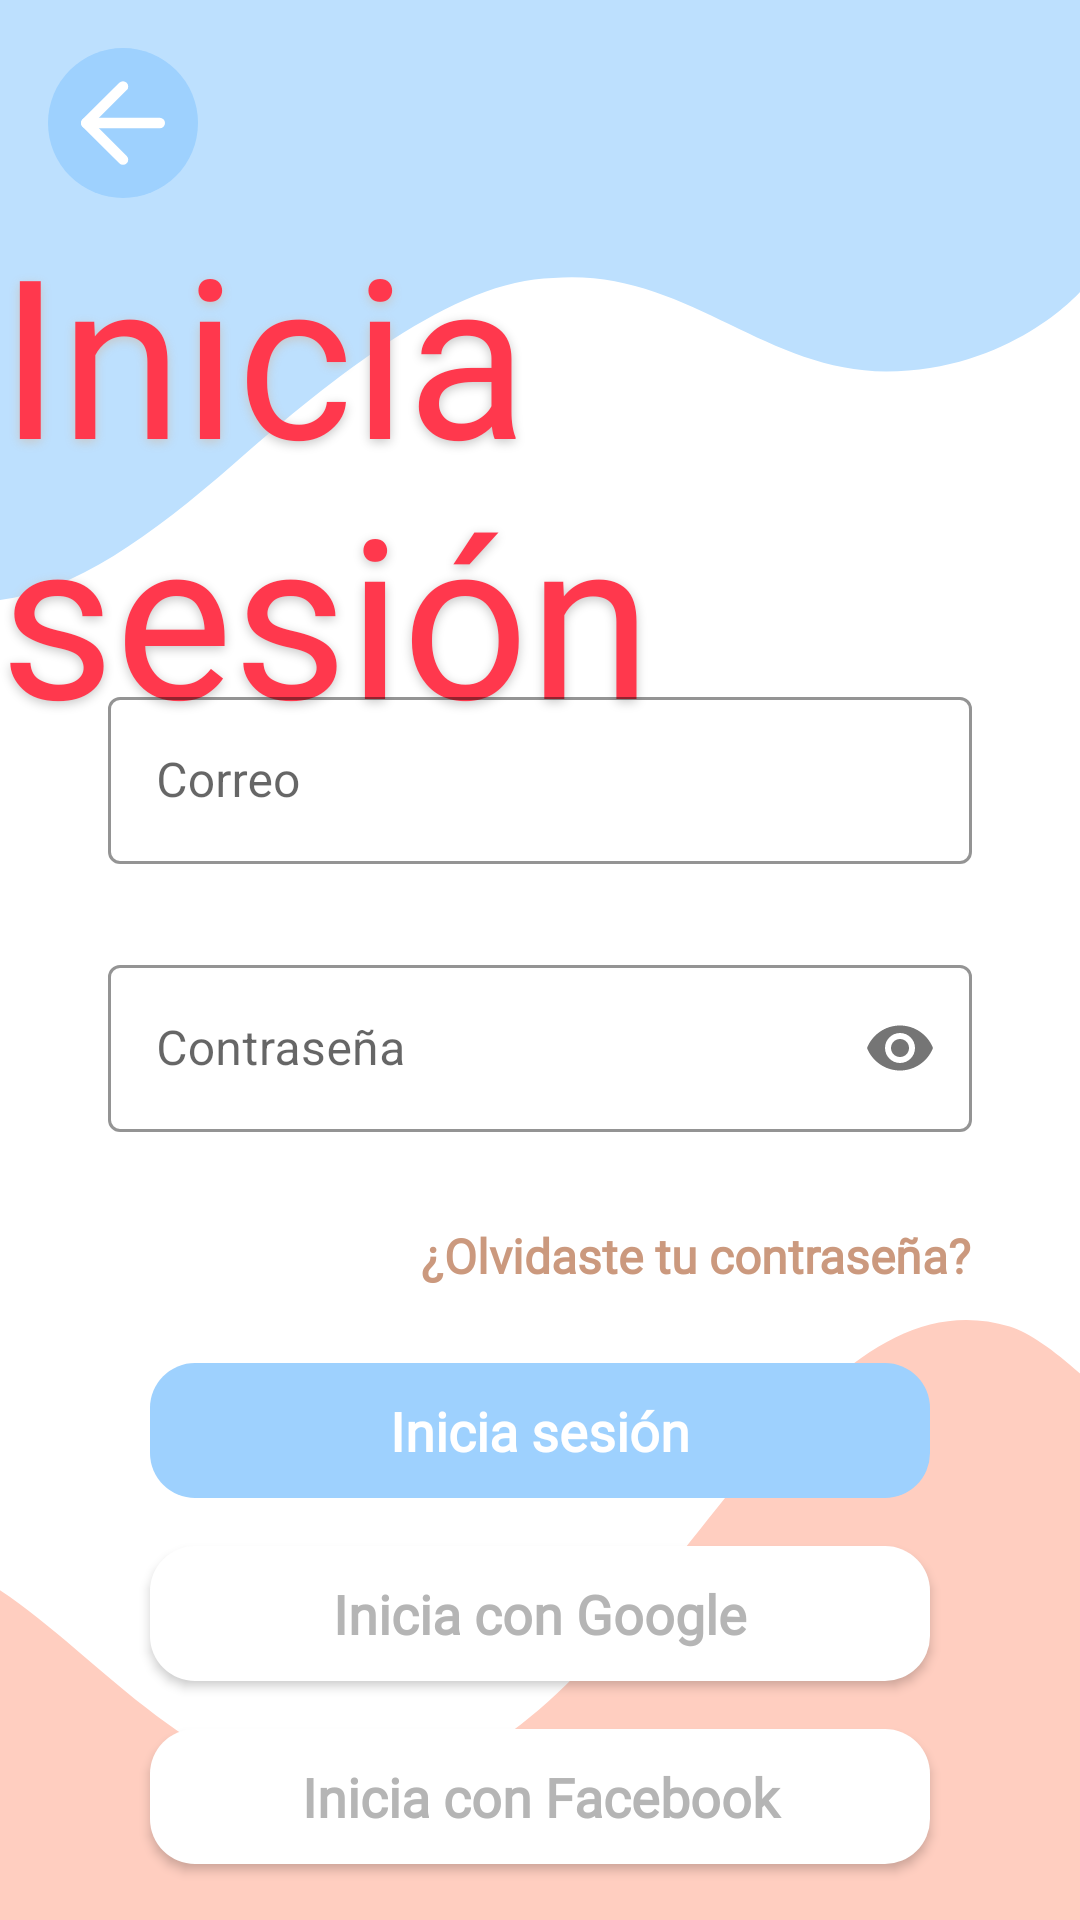

Icon bounding boxes for this 1080w x 1920h phone screenshot, format (x1, y1, x2, y2):
arrow back: (48, 48, 198, 198)
